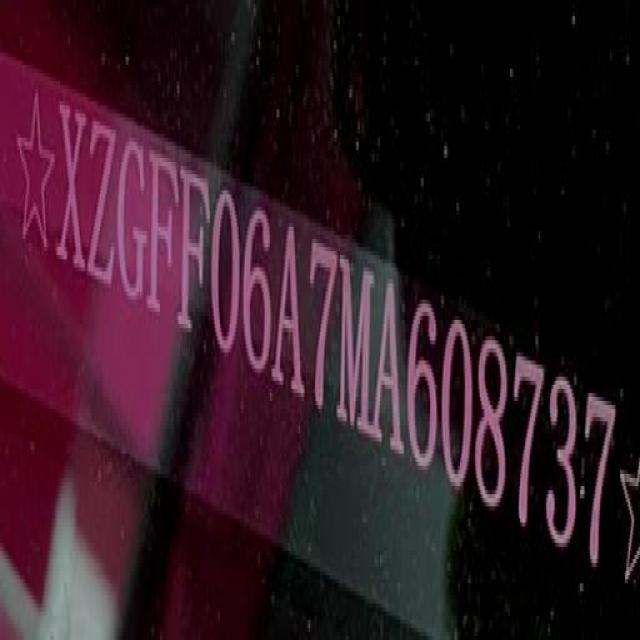0: (442, 313, 474, 500), (213, 184, 241, 362)
3: (545, 365, 578, 559)
6: (408, 292, 440, 480), (245, 198, 275, 382)
7: (585, 383, 618, 584), (514, 343, 545, 540), (308, 237, 336, 426)
8: (476, 328, 509, 519)
A: (371, 277, 406, 462), (276, 216, 303, 404)
F: (148, 150, 179, 324), (182, 168, 211, 342)
G: (117, 135, 147, 309)
M: (337, 249, 374, 444)
X: (57, 95, 85, 275)
Z: (89, 118, 117, 292)
